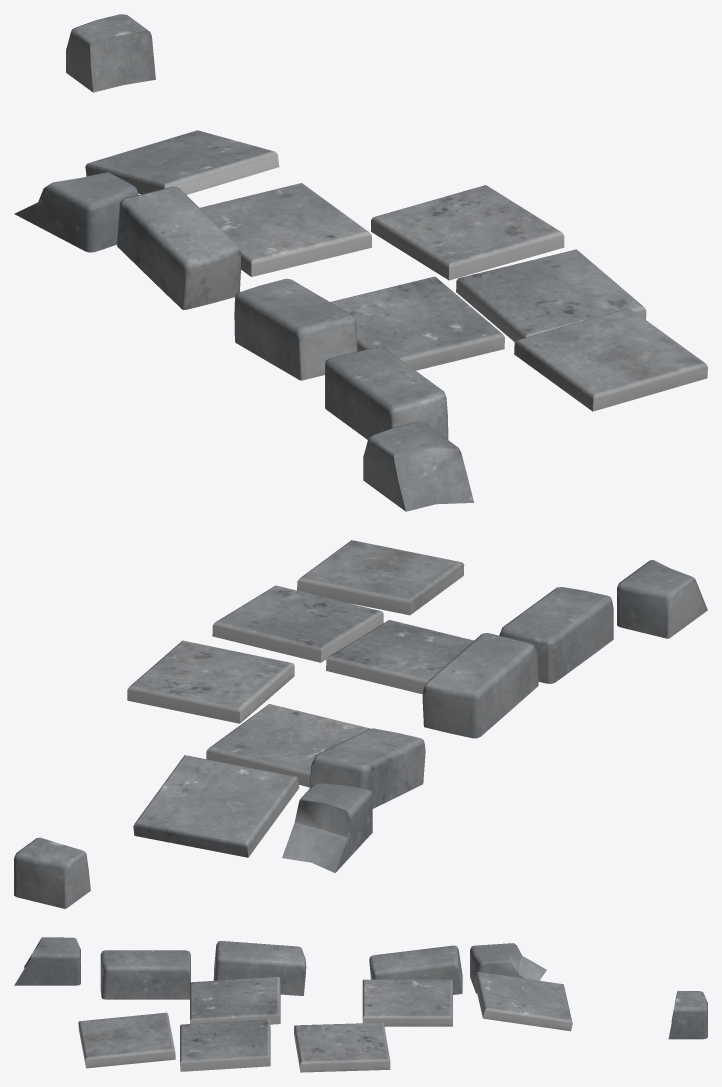
The model's file is road_pile03.fbx.
The picture shows the model from 3 angles, top to bottom: view 1: azimuth 30°, elevation 25°; view 2: azimuth 150°, elevation 25°; view 3: azimuth 270°, elevation 25°; orthographic projection. The views are drawn at different scales.
Parts seen in each view (by area): view 1: road_pile03; view 2: road_pile03; view 3: road_pile03.
Part boxes in pixels (x1,y1,x2,y2): road_pile03: (14,14,707,511); road_pile03: (14,540,707,908); road_pile03: (14,937,707,1072).
Bounding box in the file's own units: 6.16 × 1.1 × 15.37.
